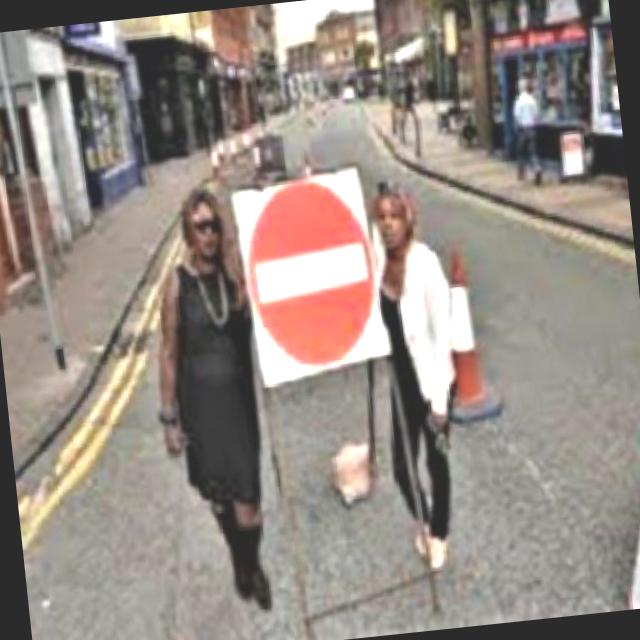Person: (132, 179, 298, 622), (360, 169, 483, 572)
